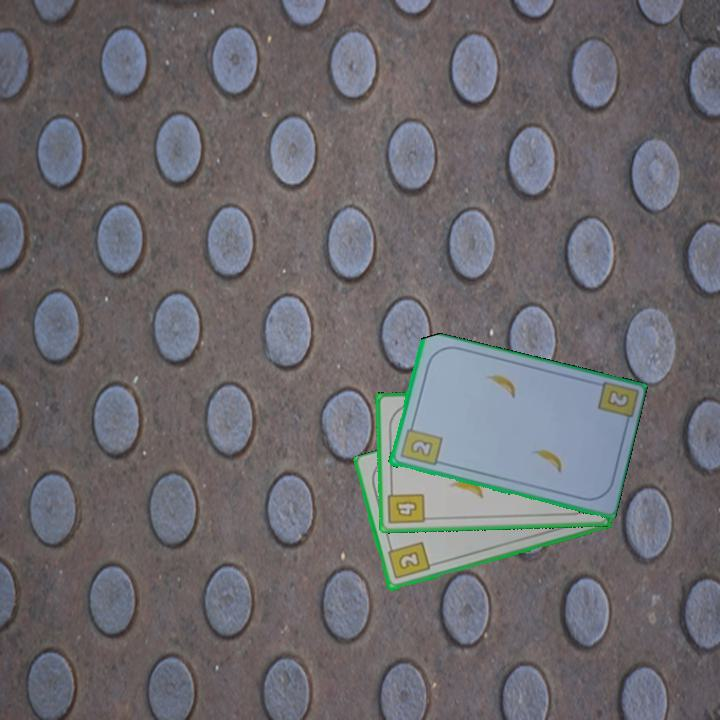2b: (396, 420, 444, 469), (384, 538, 432, 582), (606, 389, 630, 409)
4b: (385, 483, 427, 527)
